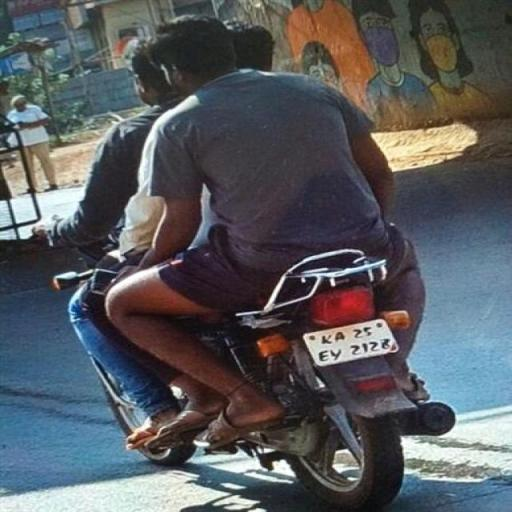tripple riding: (36, 11, 433, 332)
